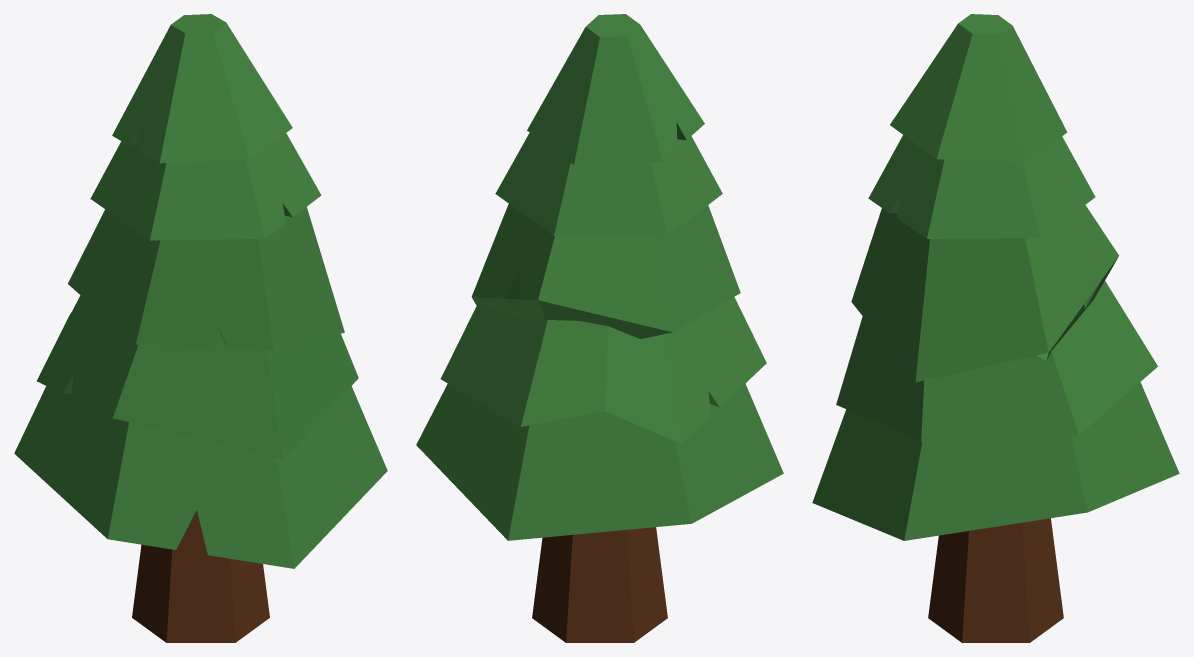
File: Tree2.fbx
3 renders of one model, left to right at view 1: azimuth 30°, elevation 25°; view 2: azimuth 150°, elevation 25°; view 3: azimuth 270°, elevation 25°, orthographic.
Visible parts, largest first — view 1: Cylinder.001, Cylinder.002, Cylinder.004, Cylinder.005, Cylinder.003, Cylinder; view 2: Cylinder.001, Cylinder.002, Cylinder.004, Cylinder.005, Cylinder.003, Cylinder; view 3: Cylinder.001, Cylinder.004, Cylinder.002, Cylinder.005, Cylinder.003, Cylinder.
Part boxes in pixels (x1,y1,x2,y2): Cylinder.001: (14, 386, 387, 568); Cylinder.002: (37, 295, 358, 459); Cylinder.004: (68, 207, 344, 350); Cylinder.005: (112, 14, 292, 163); Cylinder.003: (90, 133, 321, 240); Cylinder: (132, 512, 269, 642); Cylinder.001: (416, 383, 783, 540); Cylinder.002: (440, 297, 766, 443); Cylinder.004: (471, 204, 740, 339); Cylinder.005: (527, 14, 704, 164); Cylinder.003: (495, 133, 722, 235); Cylinder: (532, 527, 667, 642); Cylinder.001: (812, 382, 1179, 540); Cylinder.004: (851, 205, 1118, 382); Cylinder.002: (836, 281, 1157, 441); Cylinder.005: (890, 14, 1067, 162); Cylinder.003: (868, 135, 1095, 238); Cylinder: (928, 518, 1063, 642).
Bounding box in the file's own units: 171 × 351 × 198.
